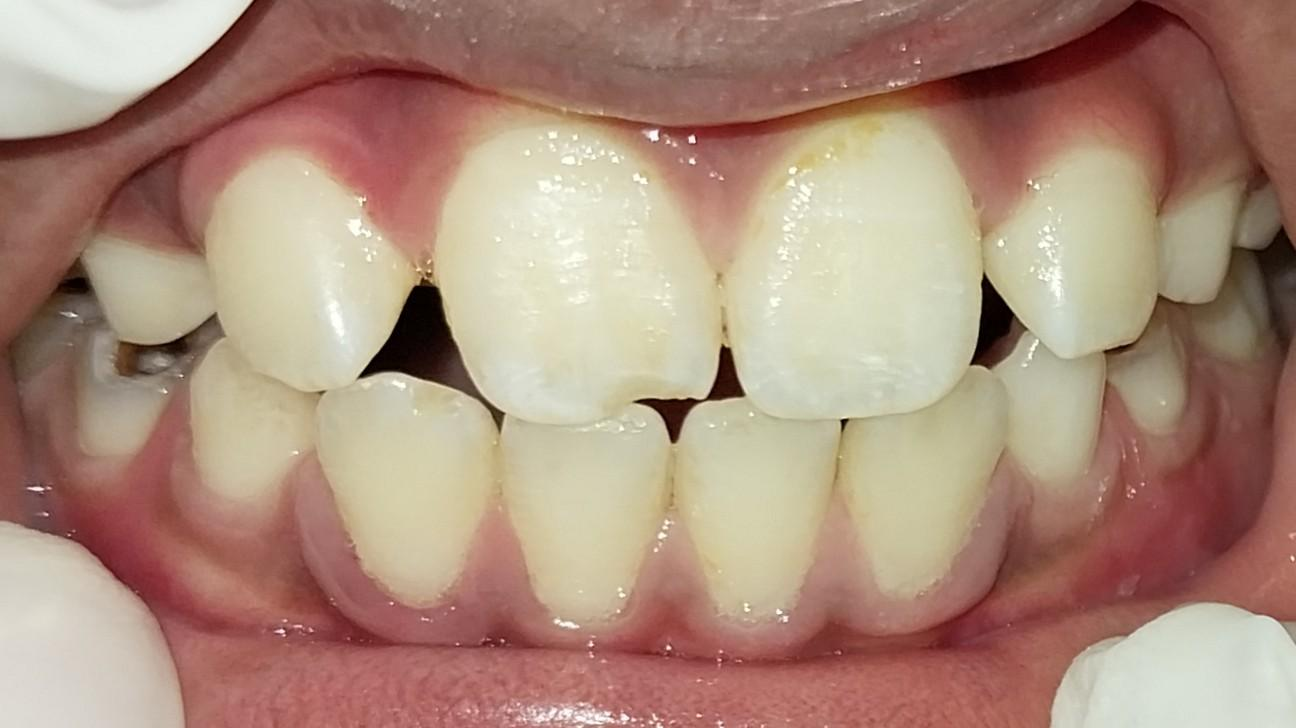d: (61, 321, 200, 445)
